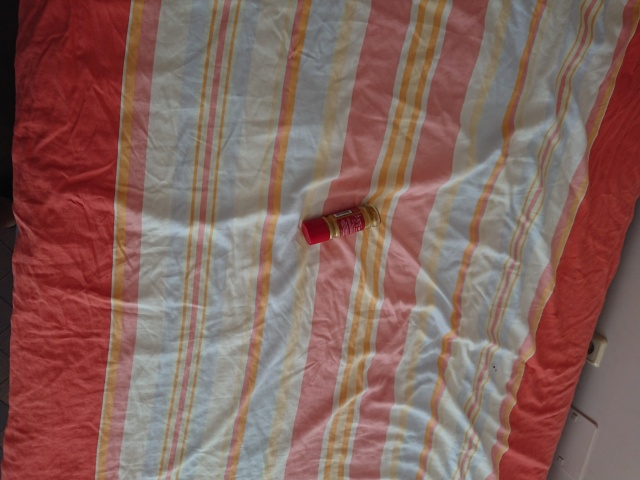Kotanyi Curry Spices Mix 70g: (300, 201, 383, 247)
